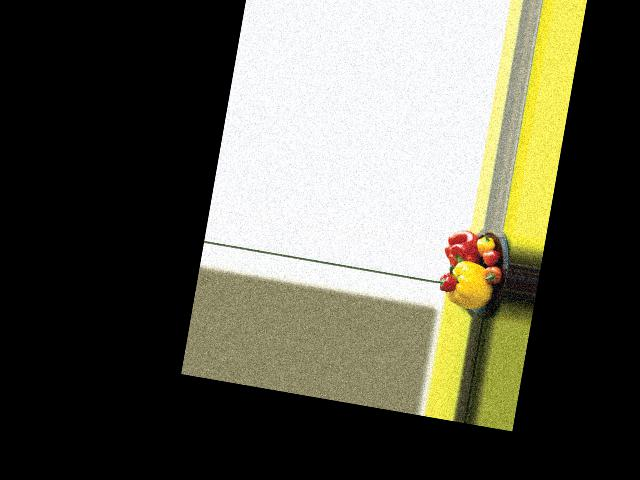bell_pepper: (474, 233, 495, 255)
